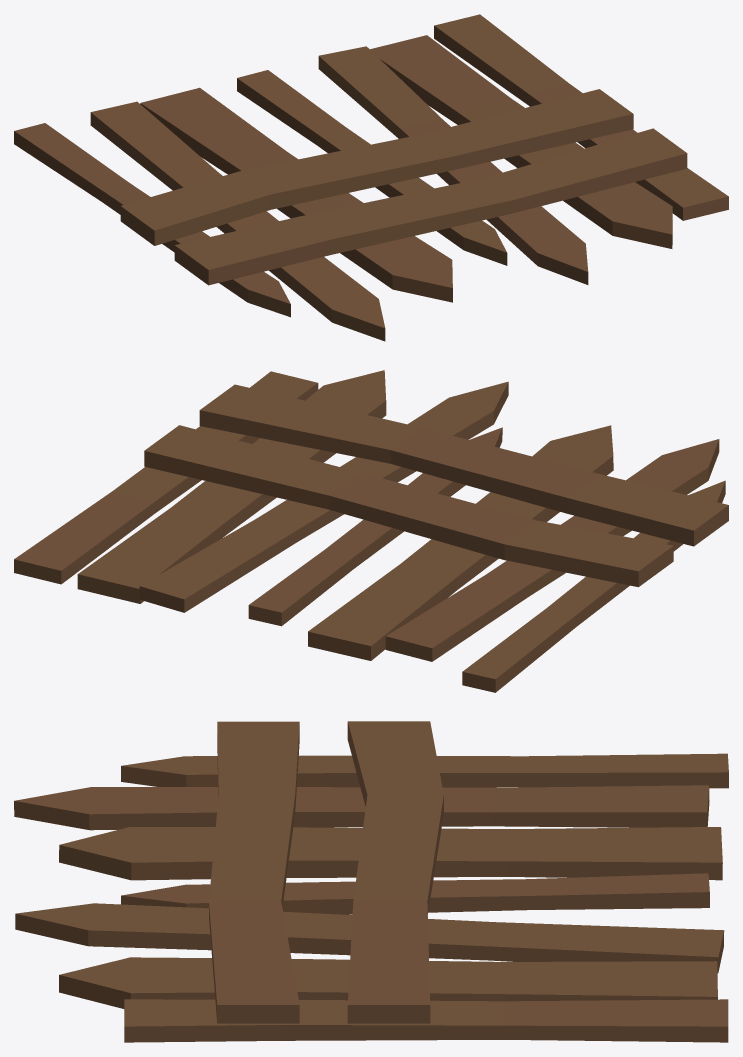
Rendered from Barrier_01_Right_destroy.fbx.
3 views of the same model, one above another, from view 1: azimuth 30°, elevation 25°; view 2: azimuth 150°, elevation 25°; view 3: azimuth 270°, elevation 25° (orthographic). The views are drawn at different scales.
Visible parts, largest first — view 1: barriere_1.bord droit destroy; view 2: barriere_1.bord droit destroy; view 3: barriere_1.bord droit destroy.
Part boxes in pixels (left/top/right/bottom): barriere_1.bord droit destroy: left=14, top=14, right=728, bottom=341; barriere_1.bord droit destroy: left=14, top=370, right=728, bottom=692; barriere_1.bord droit destroy: left=14, top=721, right=728, bottom=1042.
Size of the model in its own units: 99.71 by 6.76 by 105.
